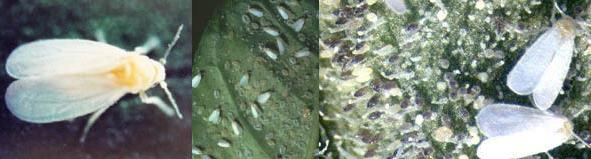whitefly: (6, 25, 182, 133), (506, 3, 591, 111), (476, 104, 591, 159)
